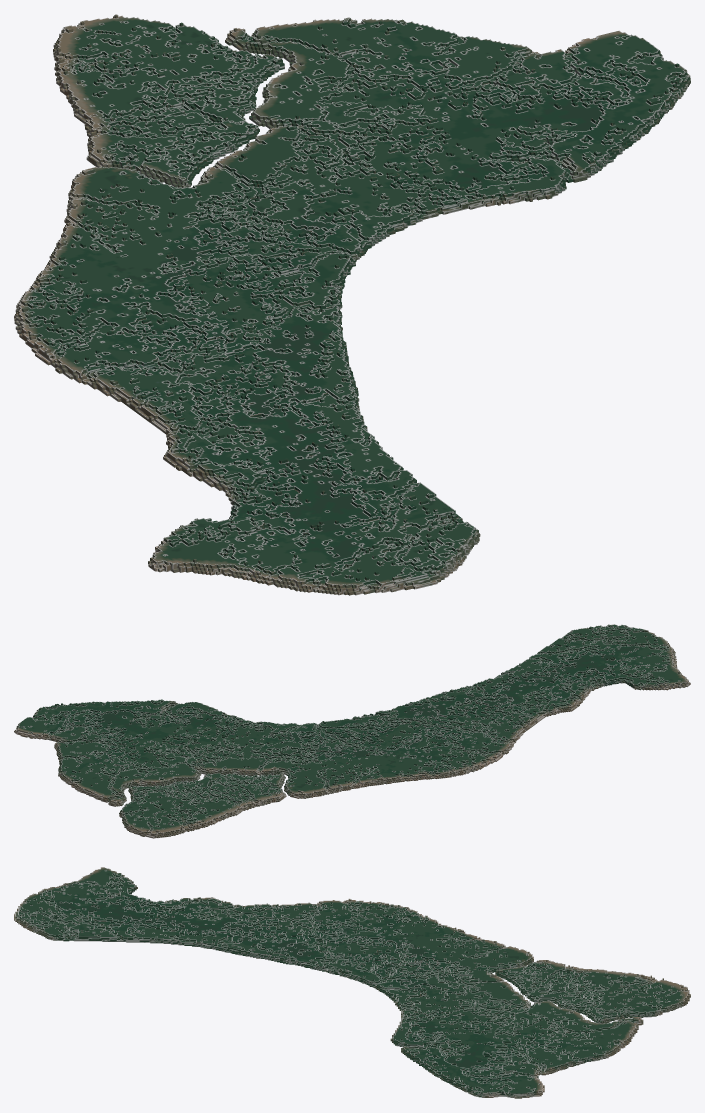
The model's file is ilhaAmarAntes.fbx.
The picture shows the model from 3 angles, top to bottom: view 1: azimuth 30°, elevation 25°; view 2: azimuth 150°, elevation 25°; view 3: azimuth 270°, elevation 25°; orthographic projection. The views are drawn at different scales.
Parts seen in each view (by area): view 1: ilhaAmarAntes; view 2: ilhaAmarAntes; view 3: ilhaAmarAntes.
Boxes of the visible parts, <box> form: ilhaAmarAntes: <box>14,14,690,595</box>; ilhaAmarAntes: <box>14,624,690,838</box>; ilhaAmarAntes: <box>14,867,690,1098</box>.
Size of the model in its own units: 36.1 by 0.4 by 45.3.
Materials: 1 (1 with a texture image).
